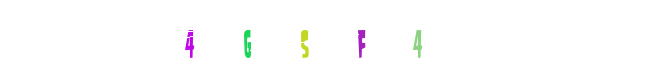4: (207, 0, 287, 80), (337, 0, 417, 80)
F: (287, 0, 367, 80)
G: (236, 0, 316, 80)
S: (264, 0, 344, 80)
